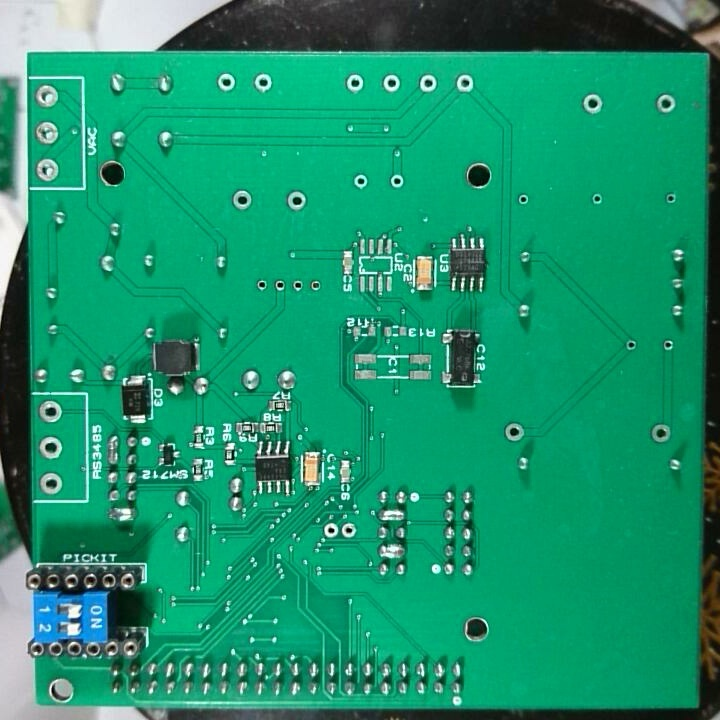F: (33, 82, 61, 110), (37, 433, 65, 461), (37, 398, 64, 426), (579, 91, 605, 119), (34, 120, 60, 147), (228, 186, 255, 212), (37, 470, 65, 495), (34, 157, 60, 183), (654, 90, 677, 118), (284, 189, 308, 215), (251, 71, 275, 95), (502, 420, 525, 445), (650, 420, 672, 446), (416, 71, 439, 95), (214, 70, 237, 94), (454, 72, 476, 95), (382, 72, 403, 95), (587, 189, 608, 211), (344, 72, 365, 94), (339, 519, 359, 542), (351, 170, 371, 192), (388, 170, 407, 191), (270, 275, 289, 296), (305, 275, 324, 296), (253, 277, 272, 296), (288, 275, 306, 295), (322, 520, 339, 541), (663, 189, 680, 209), (659, 337, 676, 355), (622, 338, 639, 356), (515, 191, 531, 208)
P: (105, 504, 139, 523), (377, 543, 408, 561), (105, 432, 120, 469), (377, 506, 408, 523)
